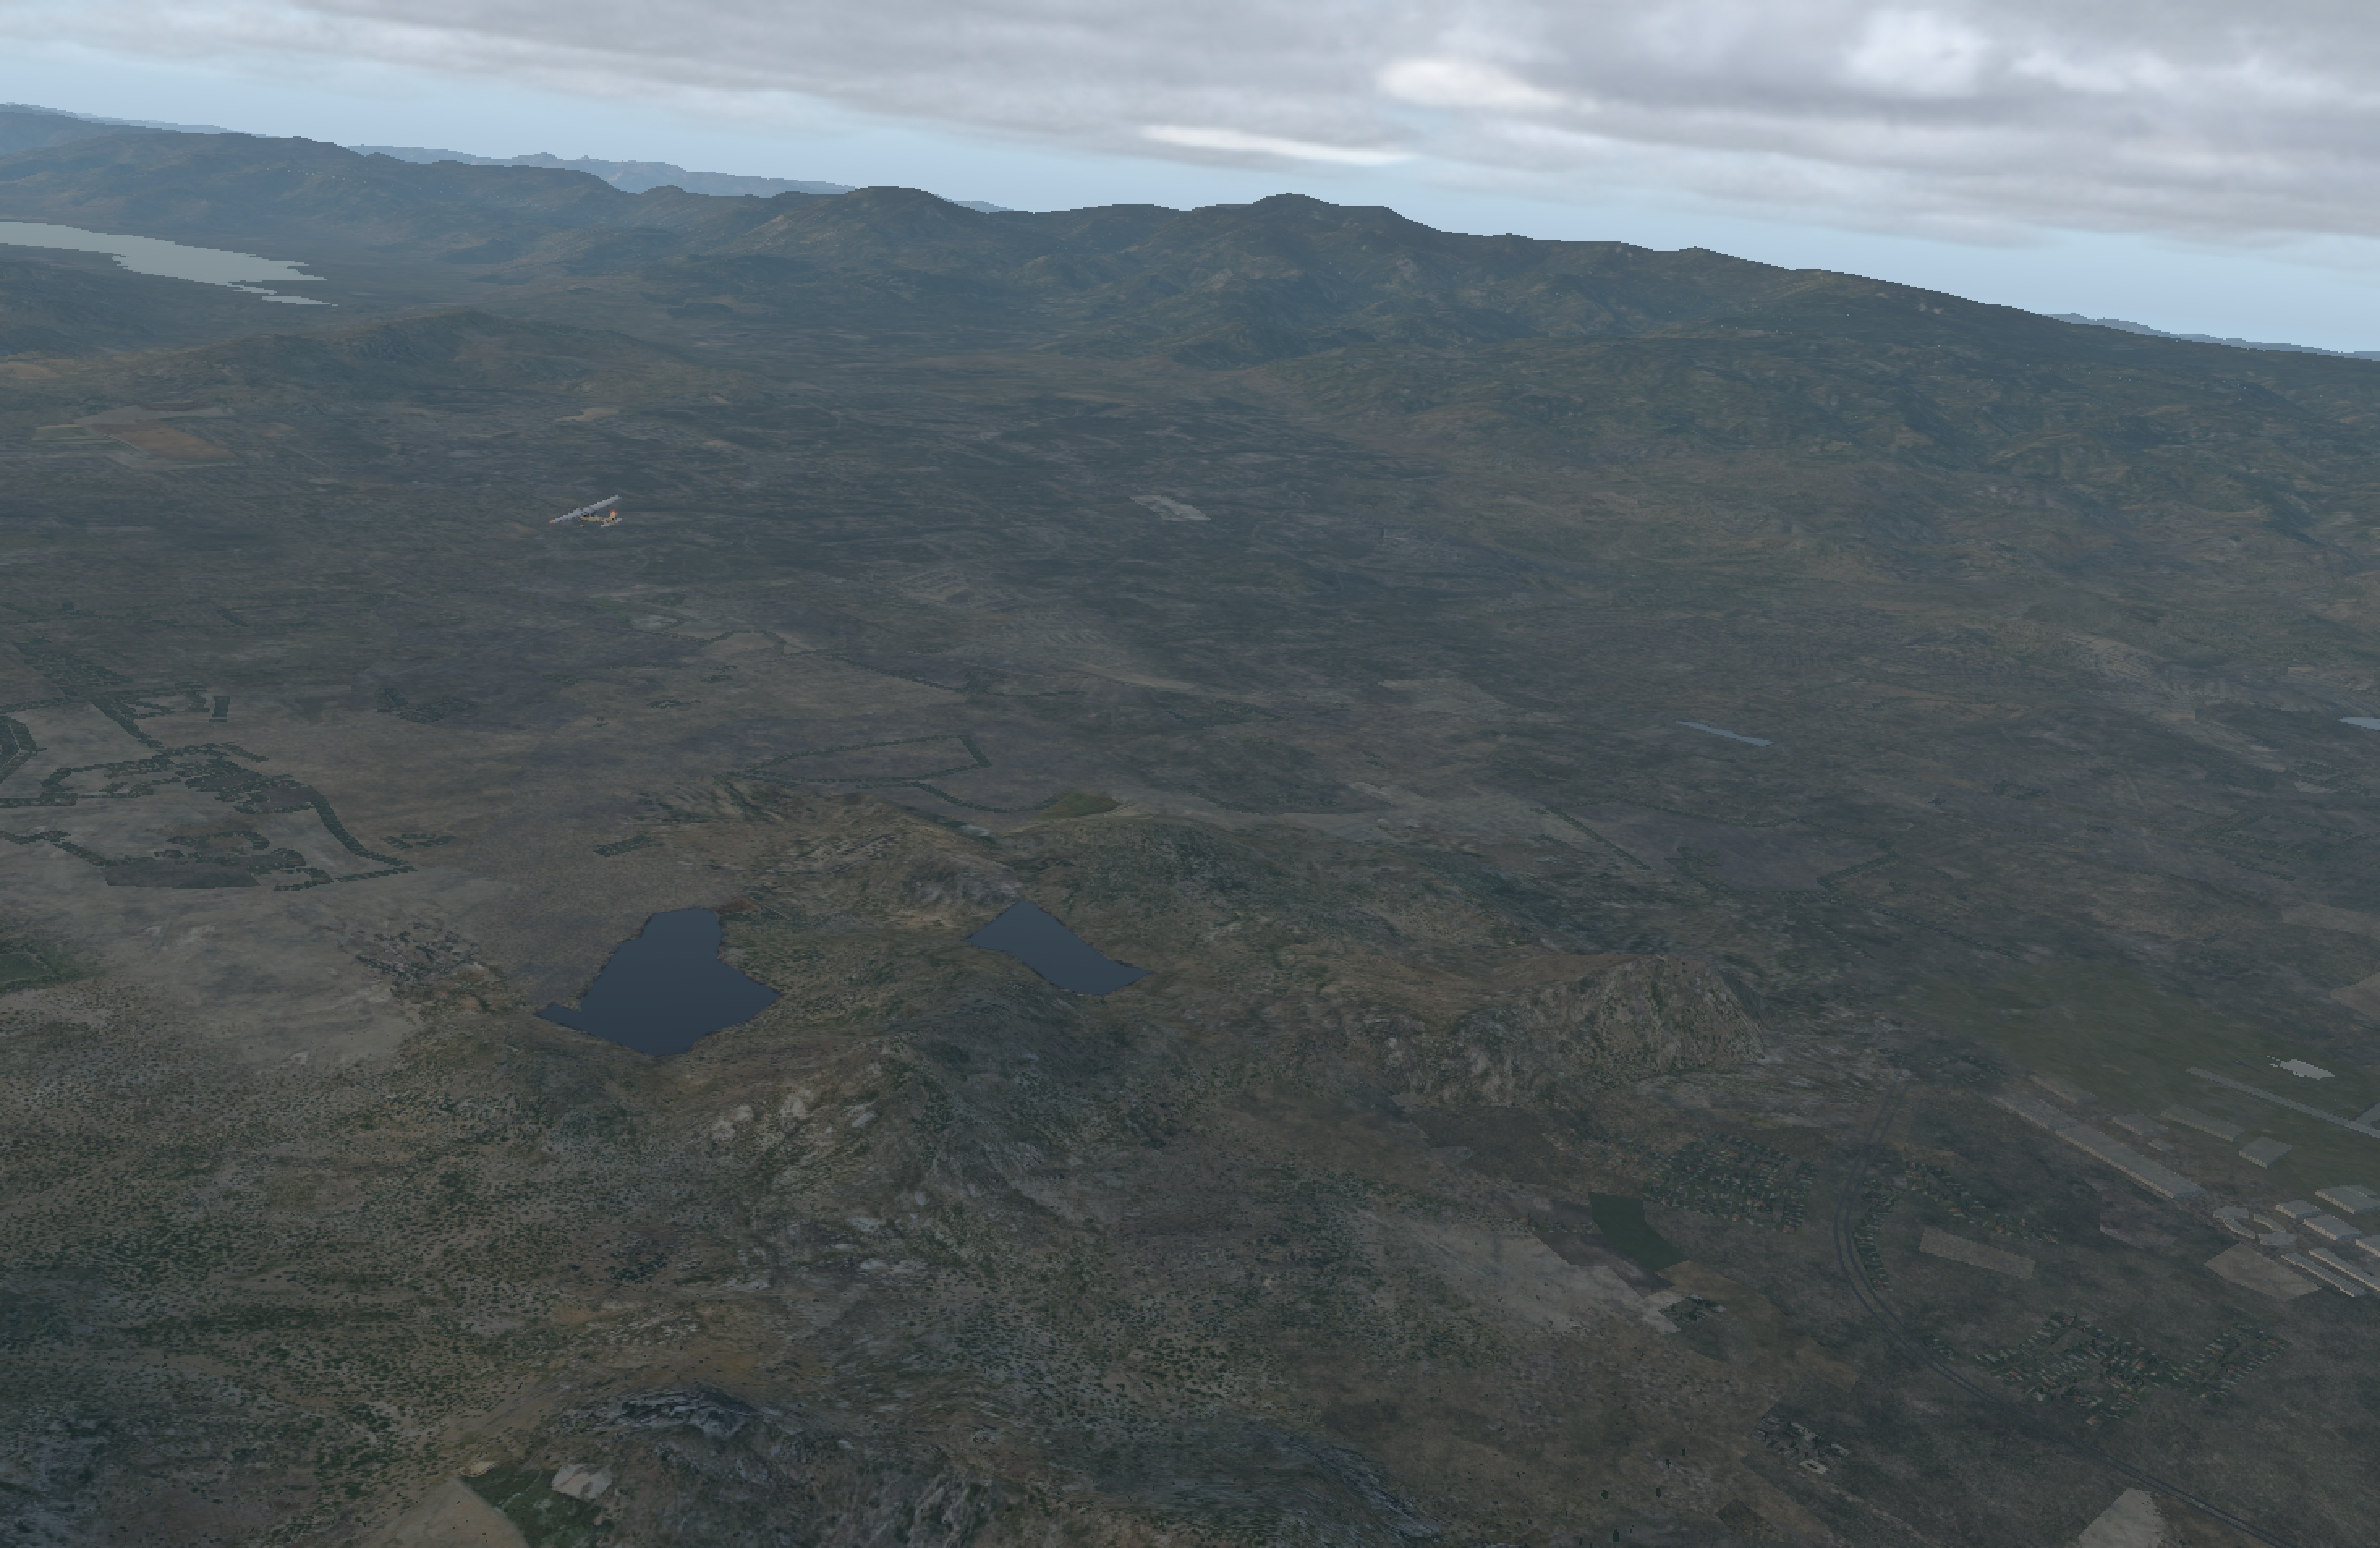aircraft: (557, 503, 616, 526)
